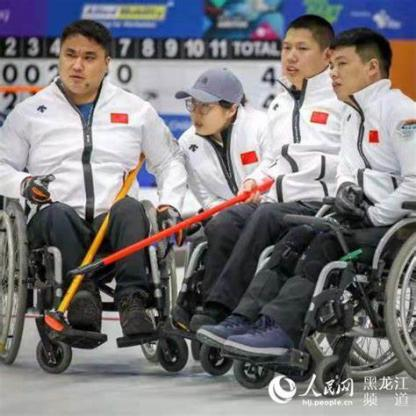wheelchair: (0, 18, 181, 371), (248, 30, 415, 404), (218, 12, 359, 382), (153, 64, 306, 365)
